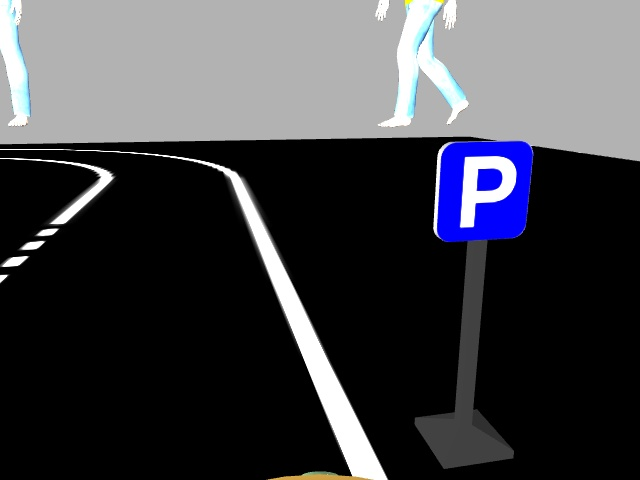Parking: (432, 141, 534, 241)
